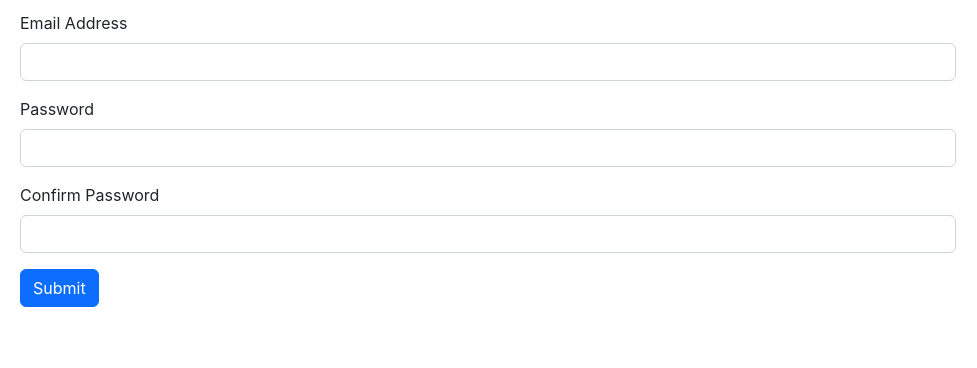
Test: Testing Form Component › should validate if user has given a valid password
The width and height of the screenshot is (977, 368).
Expected: the text "the password should be minimum 5 characters long." is not shown
Type "valid@gmail.com" into the field at (488, 62), box x1=20 y1=43 x2=956 y2=81
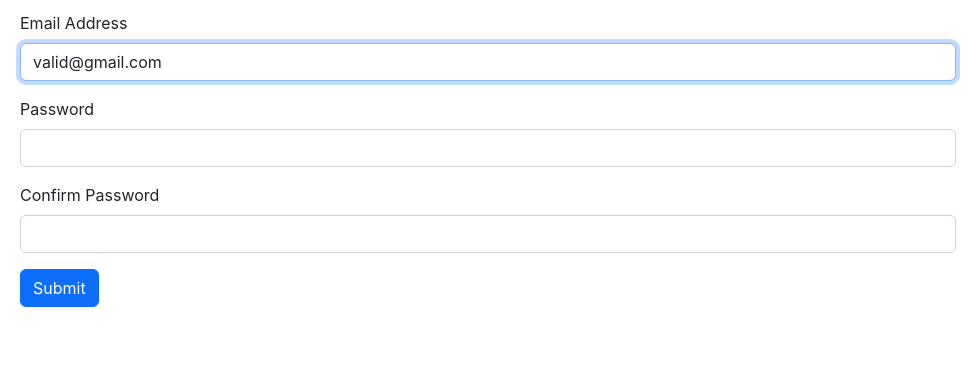
Type "123" into the password field labelled "Password" at (488, 148), box x1=20 y1=129 x2=956 y2=167
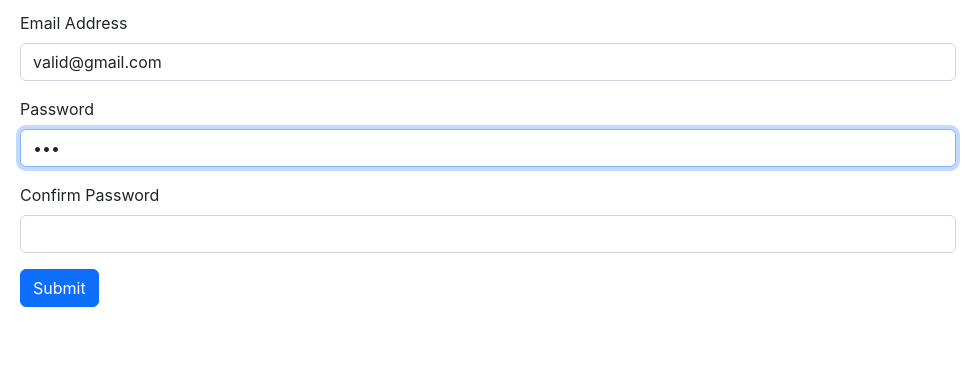
Click the button at (59, 288), box x1=20 y1=269 x2=99 y2=307
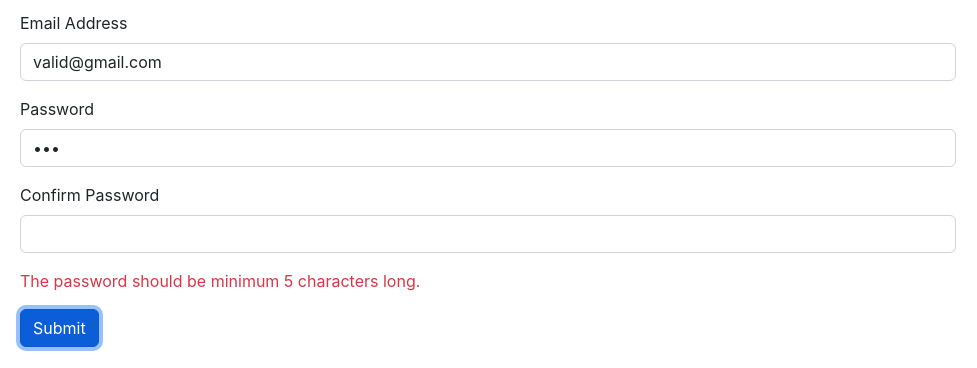
Result: the text "The password should be minimum 5 characters long." is shown at x1=20 y1=271 x2=420 y2=291
Type "123456" into the password field labelled "Password" at (488, 148), box x1=20 y1=129 x2=956 y2=167
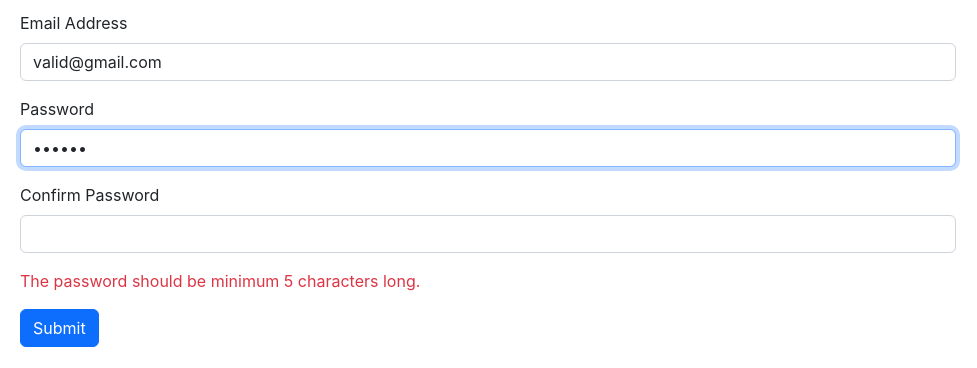
Click the button at (59, 328), box x1=20 y1=309 x2=99 y2=347
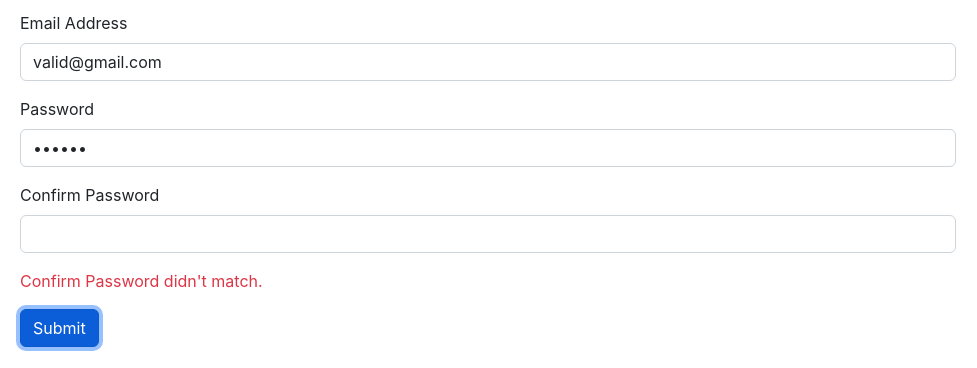
Result: the text "The password should be minimum 5 characters long." is gone
